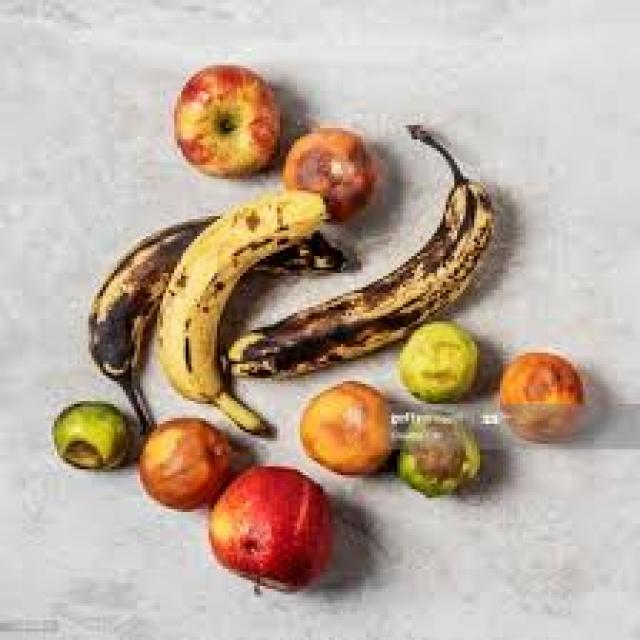organic waste: (226, 117, 491, 381), (86, 225, 346, 421), (151, 188, 326, 430), (206, 461, 334, 594), (172, 63, 277, 174), (134, 413, 229, 509), (294, 381, 392, 469), (283, 125, 371, 219), (497, 350, 583, 435), (392, 410, 474, 495), (397, 316, 477, 395), (48, 401, 128, 469)
